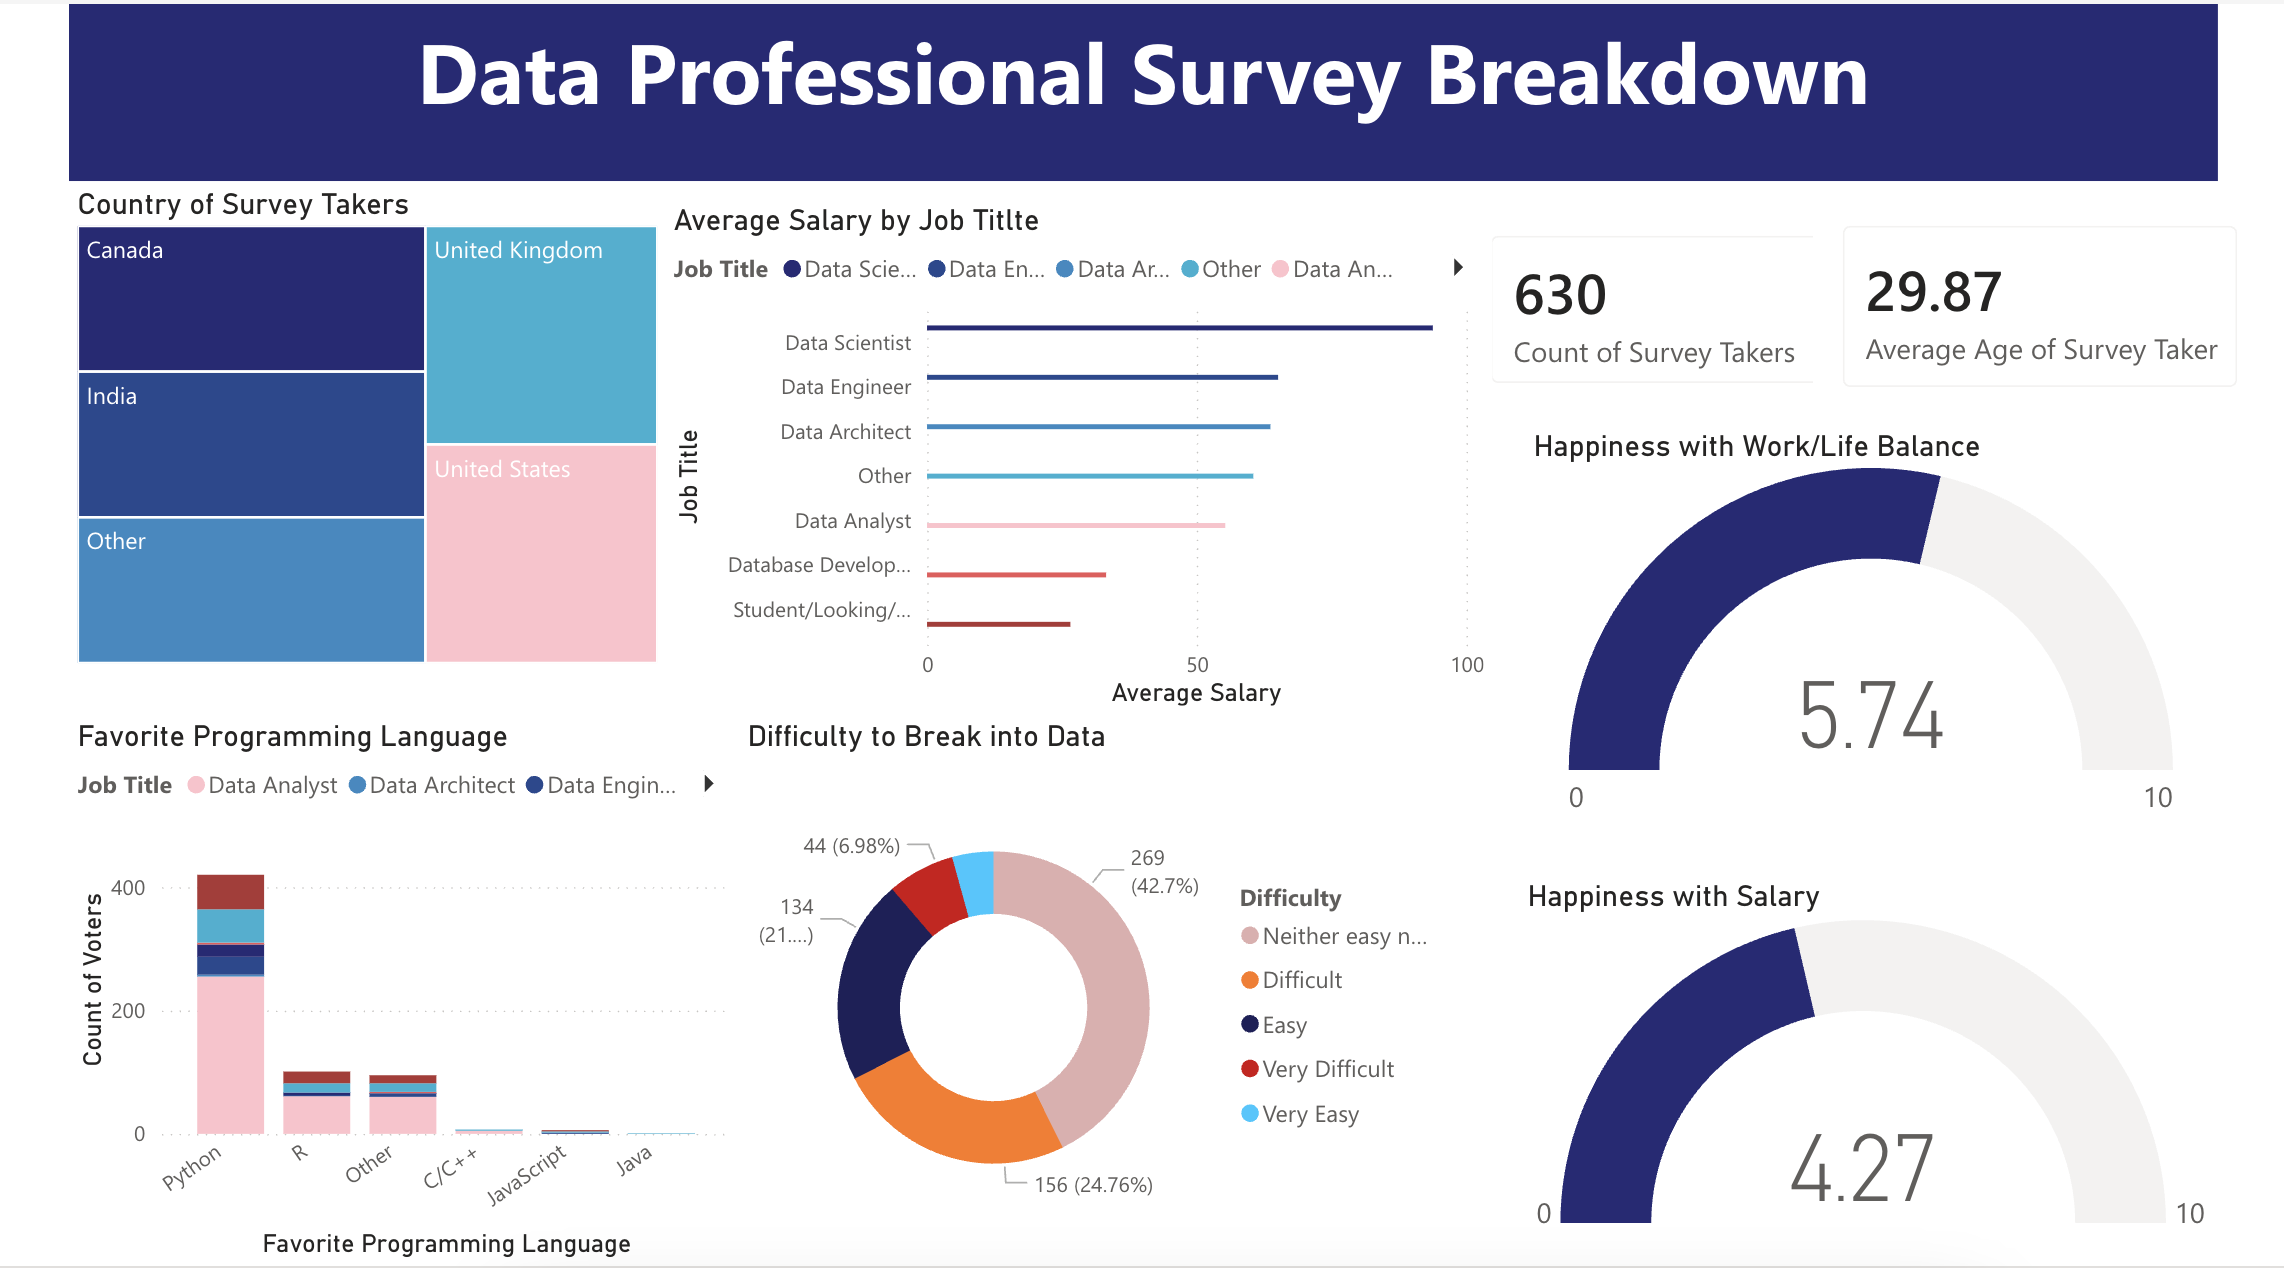

Layout of this report page (visuals, bound fields, positions):
{"tool":"powerbi","page":{"name":"Page 1","canvas":[1280,720],"ordinal":0},"visuals":[{"type":"textbox","box":[27,0,1226,100.8],"z":0},{"type":"cardVisual","fields":{"Data":["CountNonNull(Data Professional Survey.Unique ID)"]},"box":[821.3,114.7,234.4,118],"z":1000},{"type":"cardVisual","fields":{"Data":["Avg(Data Professional Survey.Q10 - Current Age)"]},"box":[1022,109.6,259.7,126.5],"z":2000},{"type":"clusteredBarChart","title":"Average Salary by Job Titlte","fields":{"Category":["Data Professional Survey.Q1 - Which Title Best Fits your Current Role?.1"],"Y":["Avg(Data Professional Survey.Average Salary)"],"Series":["Data Professional Survey.Q1 - Which Title Best Fits your Current Role?.1"]},"box":[367.6,114.7,472.2,290.1],"z":3000},{"type":"columnChart","title":"Favorite Programming Language","fields":{"Category":["Data Professional Survey.Q5 - Favorite Programming Language.1"],"Y":["CountNonNull(Data Professional Survey.Unique ID)"],"Series":["Data Professional Survey.Q1 - Which Title Best Fits your Current Role?.1"]},"box":[27,409.8,382.8,310.3],"z":3001},{"type":"treemap","title":"Country of Survey Takers","fields":{"Values":["Count(Data Professional Survey.Q11 - Which Country do you live in?.1)"],"Group":["Data Professional Survey.Q11 - Which Country do you live in?.1"]},"box":[27,106.2,340.7,274.9],"z":3002},{"type":"gauge","title":"Happiness with Salary","fields":{"Y":["Avg(Data Professional Survey.Q6 - How Happy are you in your Current Position with the following? (Salary))"],"MinValue":["Min(Data Professional Survey.Q6 - How Happy are you in your Current Position with the following? (Salary))"],"MaxValue":["Max(Data Professional Survey.Q6 - How Happy are you in your Current Position with the following? (Salary))"]},"box":[855,500.9,401.4,205.7],"z":3003},{"type":"gauge","title":"Happiness with Work/Life Balance","fields":{"Y":["Avg(Data Professional Survey.Q6 - How Happy are you in your Current Position with the following? (Work/Life Balance))"],"MinValue":["Min(Data Professional Survey.Q6 - How Happy are you in your Current Position with the following? (Work/Life Balance))"],"MaxValue":["Max(Data Professional Survey.Q6 - How Happy are you in your Current Position with the following? (Work/Life Balance))"]},"box":[858.4,244.5,394.6,229.3],"z":3004},{"type":"donutChart","title":"Difficulty to Break into Data","fields":{"Category":["Data Professional Survey.Q7 - How difficult was it for you to break into Data?"],"Y":["CountNonNull(Data Professional Survey.Q7 - How difficult was it for you to break into Data?)"]},"box":[409.8,409.8,411.5,310.3],"z":3005}]}

Visuals, with their boxes in screenshot pixels (x1, y1, x2, y2), scaled from the page's 1280x720 canvas onto the 2284x1268 screenshot:
textbox: Rect(48, 0, 2236, 178)
cardVisual - CountNonNull(Data Professional Survey.Unique ID): Rect(1466, 202, 1884, 410)
cardVisual - Avg(Data Professional Survey.Q10 - Current Age): Rect(1824, 193, 2283, 416)
"Average Salary by Job Titlte" clusteredBarChart: Rect(656, 202, 1499, 713)
"Favorite Programming Language" columnChart: Rect(48, 722, 731, 1267)
"Country of Survey Takers" treemap: Rect(48, 187, 656, 671)
"Happiness with Salary" gauge: Rect(1526, 882, 2242, 1244)
"Happiness with Work/Life Balance" gauge: Rect(1532, 431, 2236, 834)
"Difficulty to Break into Data" donutChart: Rect(731, 722, 1466, 1267)
